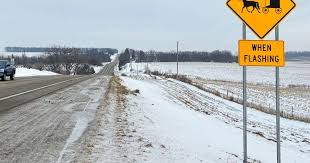When Flashing: (240, 42, 281, 65)
